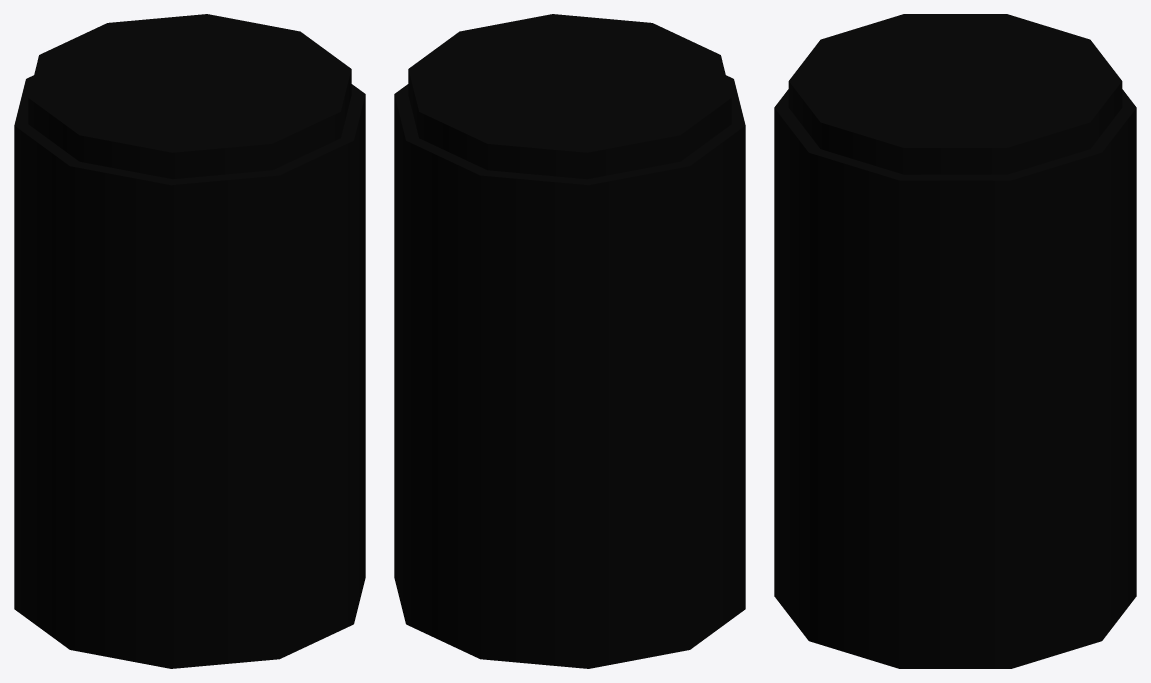
File: SM_can_soup.fbx
The picture shows the model from 3 angles, left to right: view 1: azimuth 30°, elevation 25°; view 2: azimuth 150°, elevation 25°; view 3: azimuth 270°, elevation 25°; orthographic projection.
Parts seen in each view (by area): view 1: can_soup; view 2: can_soup; view 3: can_soup.
Boxes of the visible parts, left/top/right/bottom form: can_soup: left=14, top=14, right=365, bottom=668; can_soup: left=394, top=14, right=745, bottom=668; can_soup: left=774, top=14, right=1136, bottom=668.
Size of the model in its own units: 0.0704 by 0.116 by 0.074.
